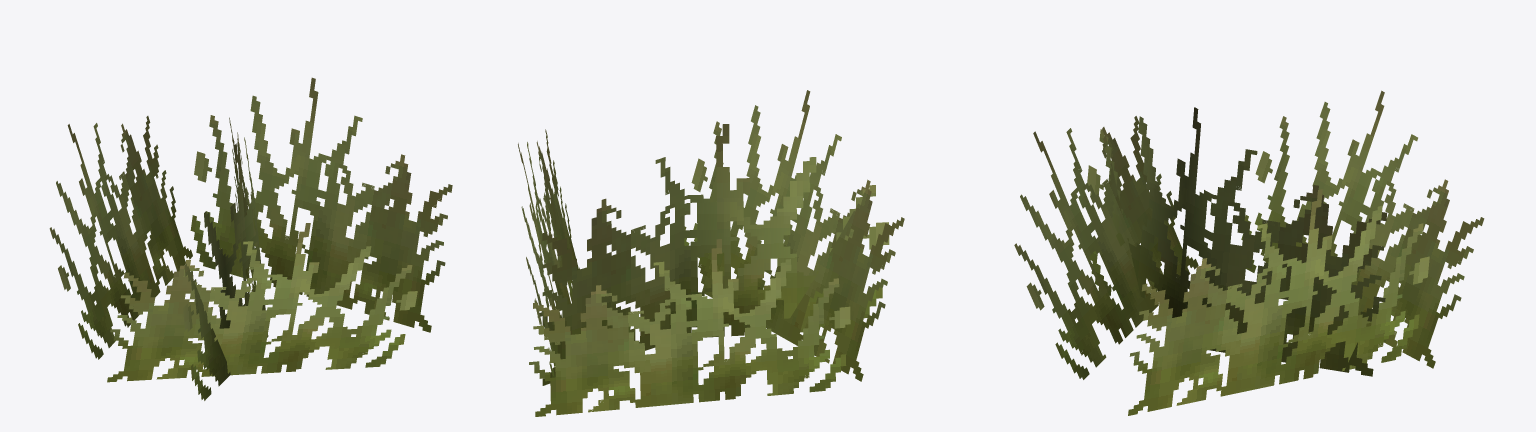
The picture shows the model from 3 angles, left to right: view 1: azimuth 30°, elevation 25°; view 2: azimuth 150°, elevation 25°; view 3: azimuth 270°, elevation 25°; orthographic projection. The views are drawn at different scales.
Visible parts, largest first — view 1: grass_grass_messy-0-01 - Default; view 2: grass_grass_messy-0-01 - Default; view 3: grass_grass_messy-0-01 - Default.
Part boxes in pixels (box(x1,y1,x2,y2)): grass_grass_messy-0-01 - Default: box(49, 77, 452, 400); grass_grass_messy-0-01 - Default: box(518, 90, 904, 416); grass_grass_messy-0-01 - Default: box(1014, 90, 1484, 415).
Bounding box in the file's own units: 1.63 × 0.9781 × 1.89.
Materials: 1 (1 with a texture image).
